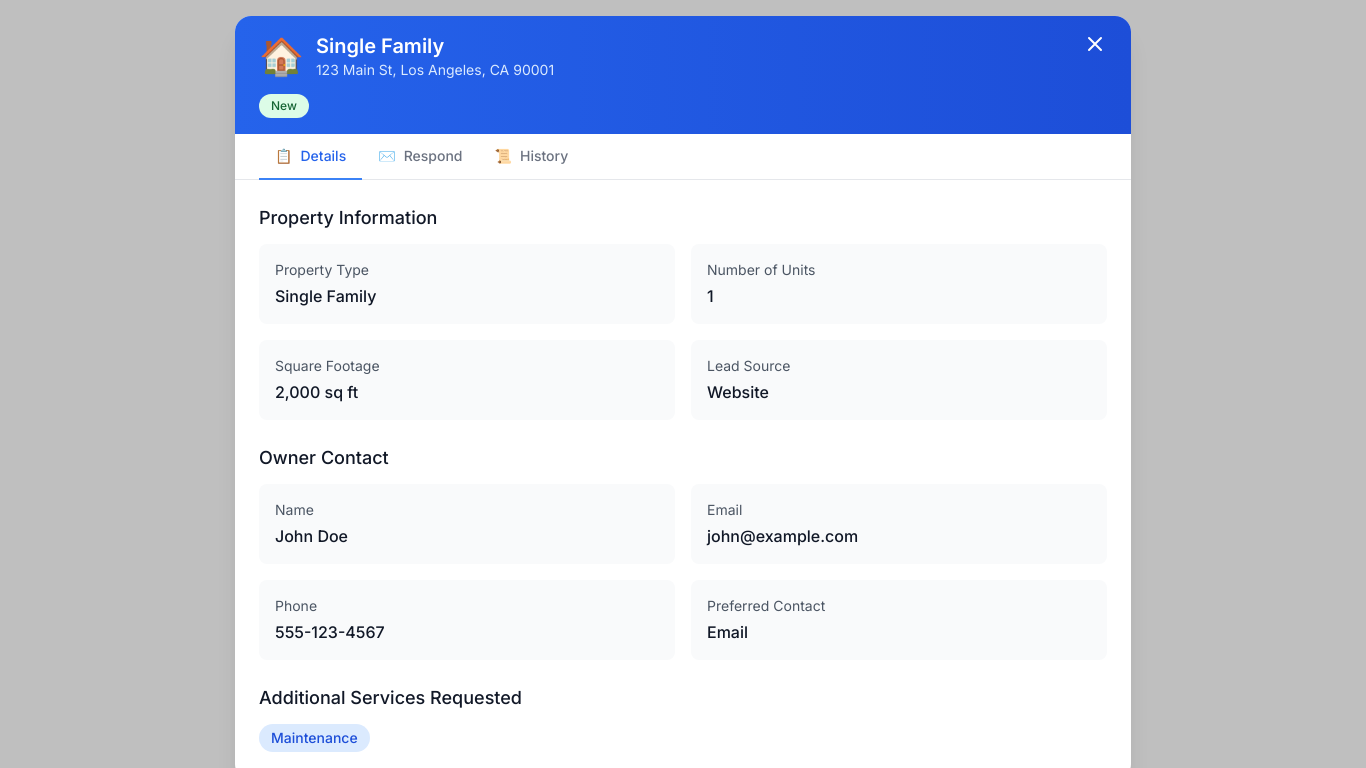
Lead Response System › LeadDetailModal › should switch to history tab
Step 1. Click the button "📜 History" → x=531, y=157, box [478,134,584,180]
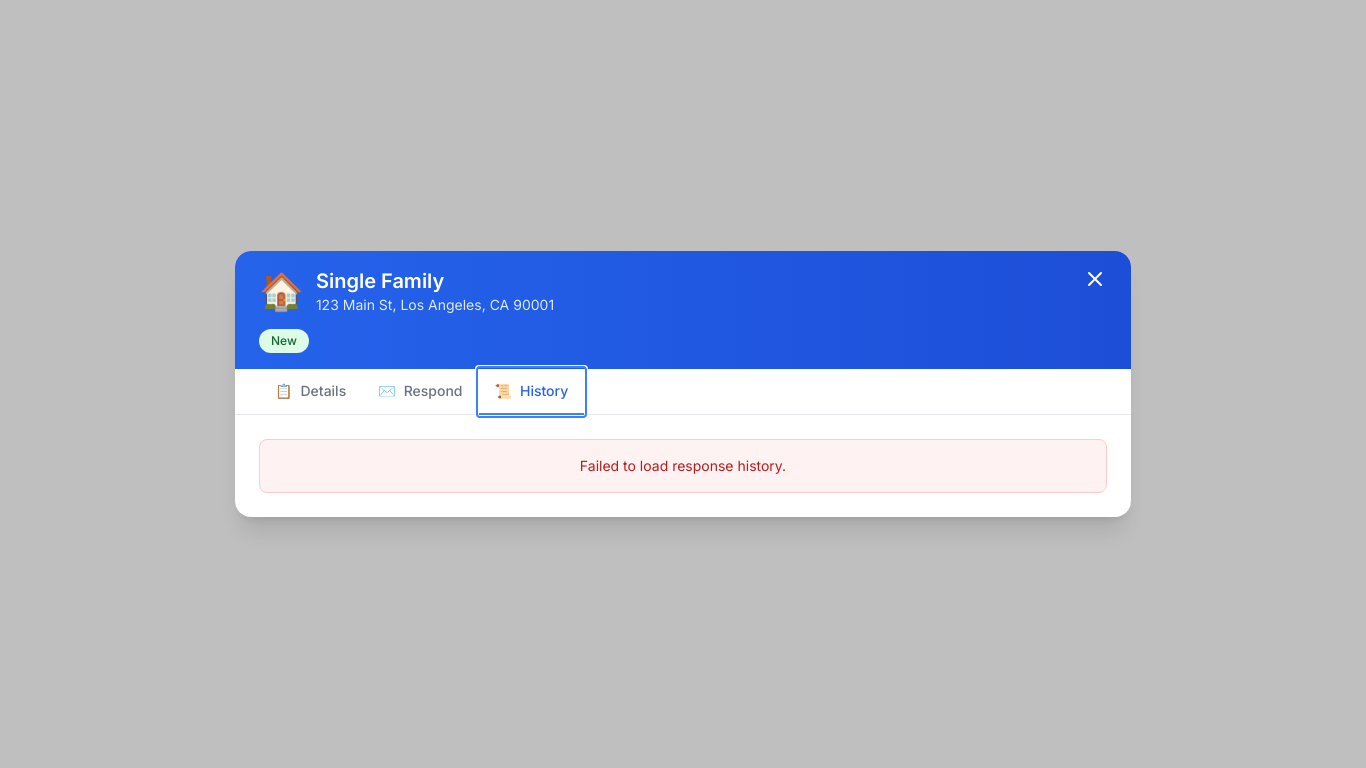
Result: the text "Failed to load response history." is shown at [580,457,786,474]
